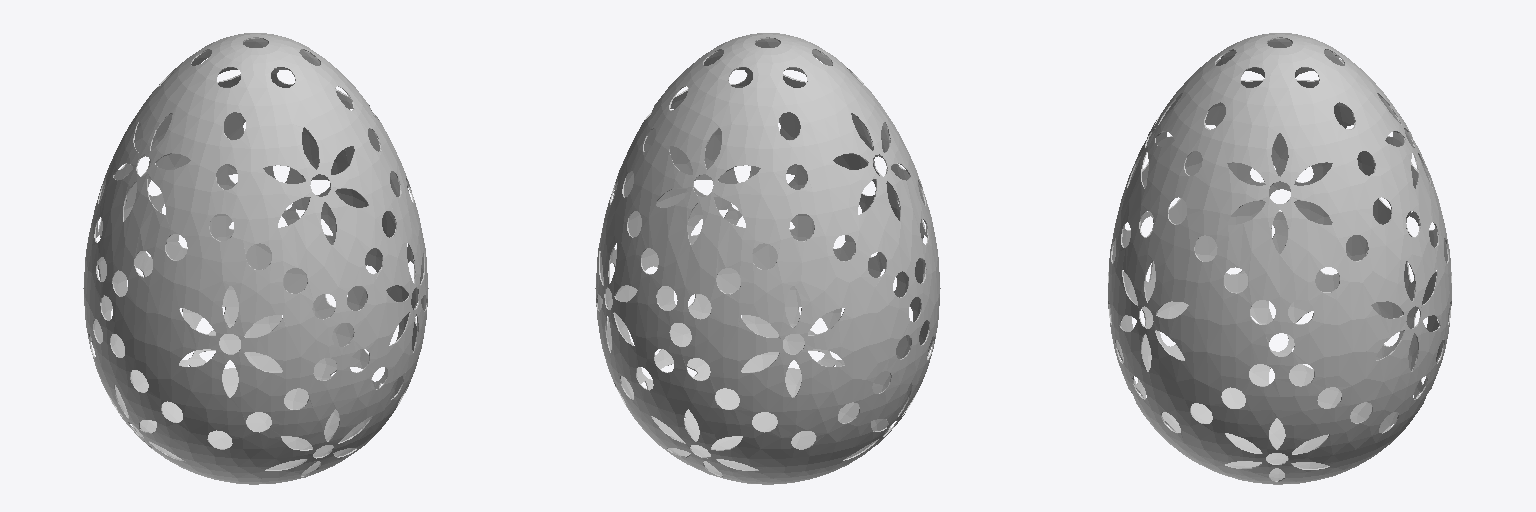
The model's file is easter_egg.obj.
3 renders of one model, left to right at view 1: azimuth 30°, elevation 25°; view 2: azimuth 150°, elevation 25°; view 3: azimuth 270°, elevation 25°, orthographic.
Parts seen in each view (by area): view 1: Egg02.002_Sphere.002_Material.001, Egg02.002_Sphere.002_Material.001_NONE; view 2: Egg02.002_Sphere.002_Material.001, Egg02.002_Sphere.002_Material.001_NONE; view 3: Egg02.002_Sphere.002_Material.001, Egg02.002_Sphere.002_Material.001_NONE.
Boxes of the visible parts, box(x1,y1,x2,y2) form: Egg02.002_Sphere.002_Material.001: box(83, 33, 428, 484); Egg02.002_Sphere.002_Material.001_NONE: box(88, 37, 427, 476); Egg02.002_Sphere.002_Material.001: box(595, 33, 940, 484); Egg02.002_Sphere.002_Material.001_NONE: box(596, 37, 934, 476); Egg02.002_Sphere.002_Material.001: box(1108, 33, 1451, 484); Egg02.002_Sphere.002_Material.001_NONE: box(1108, 37, 1451, 481).
Bounding box in the file's own units: 5.27 × 7.18 × 5.27.